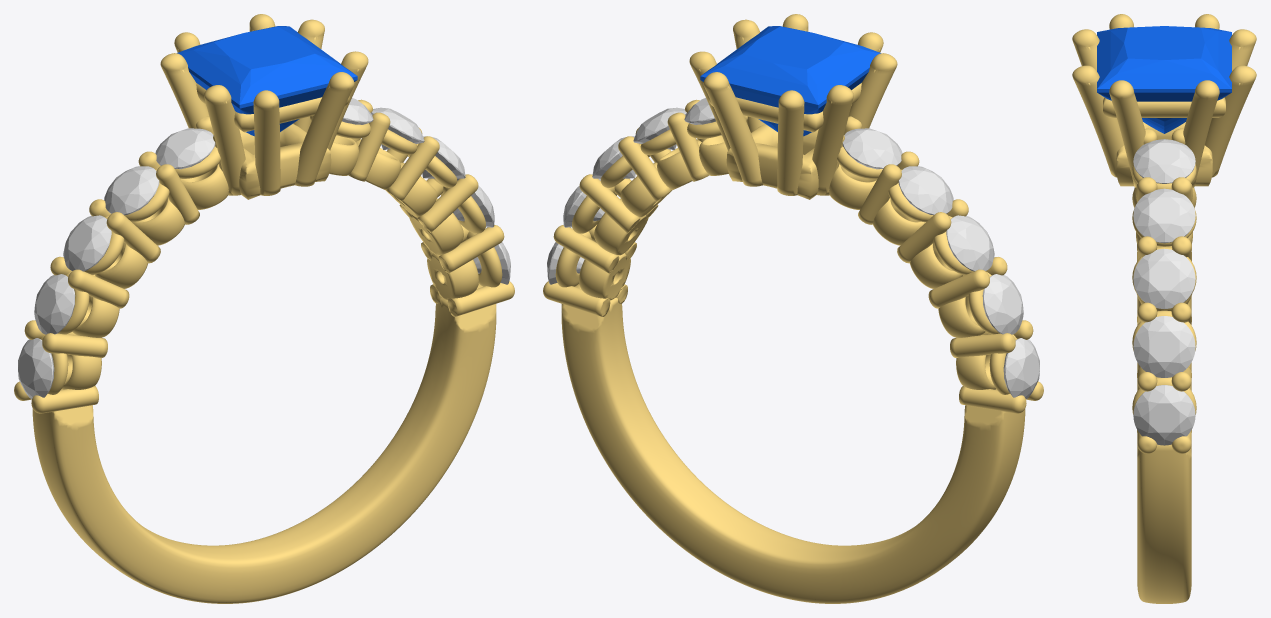
Rendered from bluesapphire-princess-yellowgold-8prong-straightband-11stone.glb.
3 views of the same model, side by side, from view 1: azimuth 30°, elevation 25°; view 2: azimuth 150°, elevation 25°; view 3: azimuth 270°, elevation 25° (orthographic).
Parts seen in each view (by area): view 1: metal, stone, side.002, side.003, side.001, side.004, side, side.006, side.007; view 2: metal, stone, side.002, side.003, side.001, side.004, side, side.006, side.007; view 3: metal, stone, side.008, side.007, side.009, side.006, side.005.
Part boxes in pixels (x1,y1,x2,y2): metal: [14, 14, 514, 603]; stone: [177, 26, 357, 136]; side.002: [63, 215, 111, 271]; side.003: [104, 166, 159, 215]; side.001: [34, 274, 75, 334]; side.004: [155, 128, 215, 169]; side: [18, 338, 54, 398]; side.006: [371, 107, 424, 149]; side.007: [422, 136, 465, 178]; metal: [543, 14, 1043, 603]; stone: [700, 26, 880, 136]; side.002: [946, 215, 994, 271]; side.003: [898, 166, 953, 215]; side.001: [982, 274, 1023, 334]; side.004: [842, 128, 902, 169]; side: [1003, 338, 1039, 398]; side.006: [633, 107, 686, 149]; side.007: [592, 136, 635, 178]; metal: [1072, 14, 1256, 603]; stone: [1097, 26, 1231, 133]; side.008: [1133, 316, 1195, 377]; side.007: [1133, 248, 1195, 308]; side.009: [1133, 385, 1195, 445]; side.006: [1133, 188, 1195, 243]; side.005: [1133, 139, 1195, 183].
Bounding box in the file's own units: 22.05 × 23.85 × 7.42.
